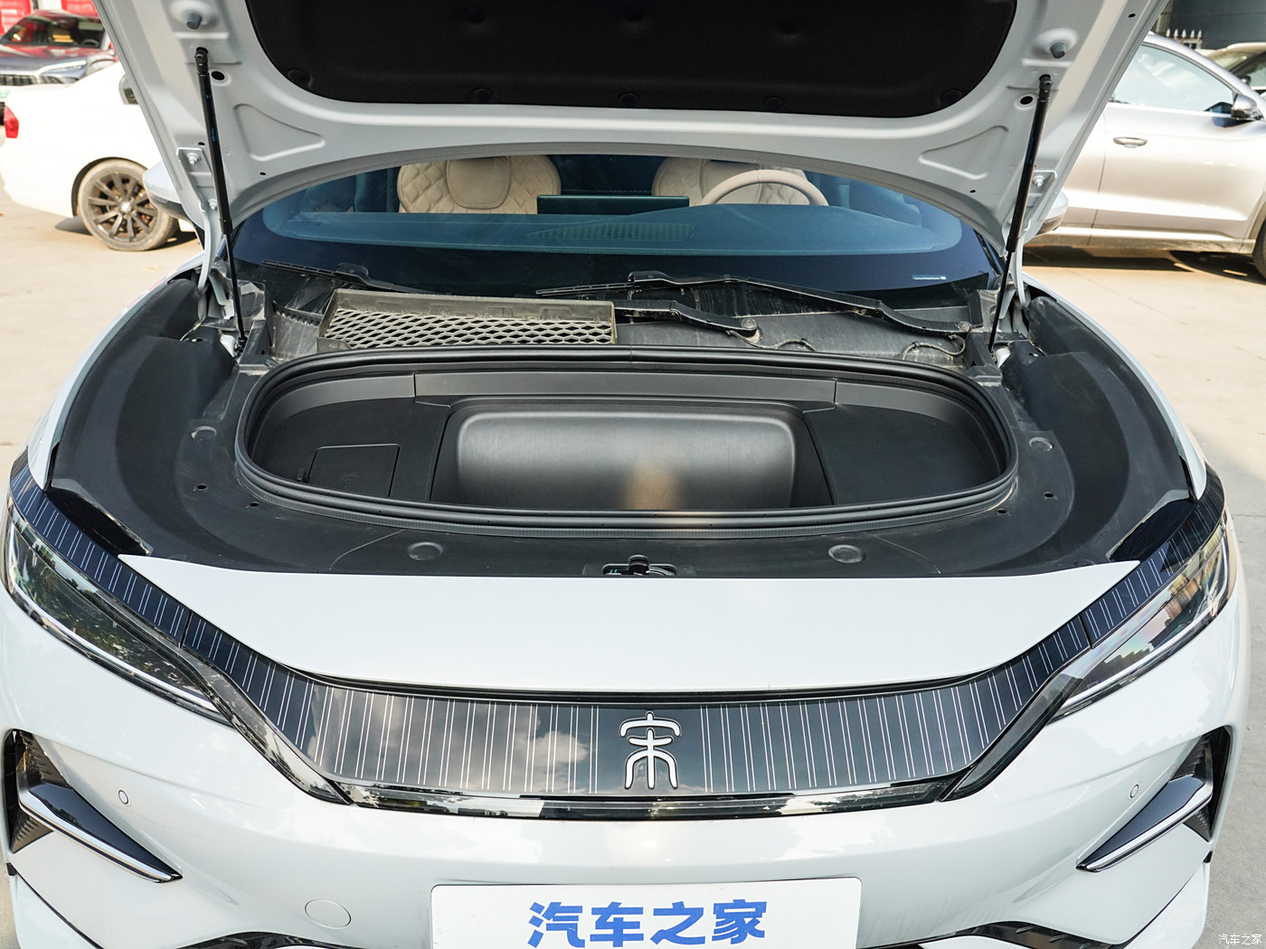BYD Song: (620, 714, 680, 787)
